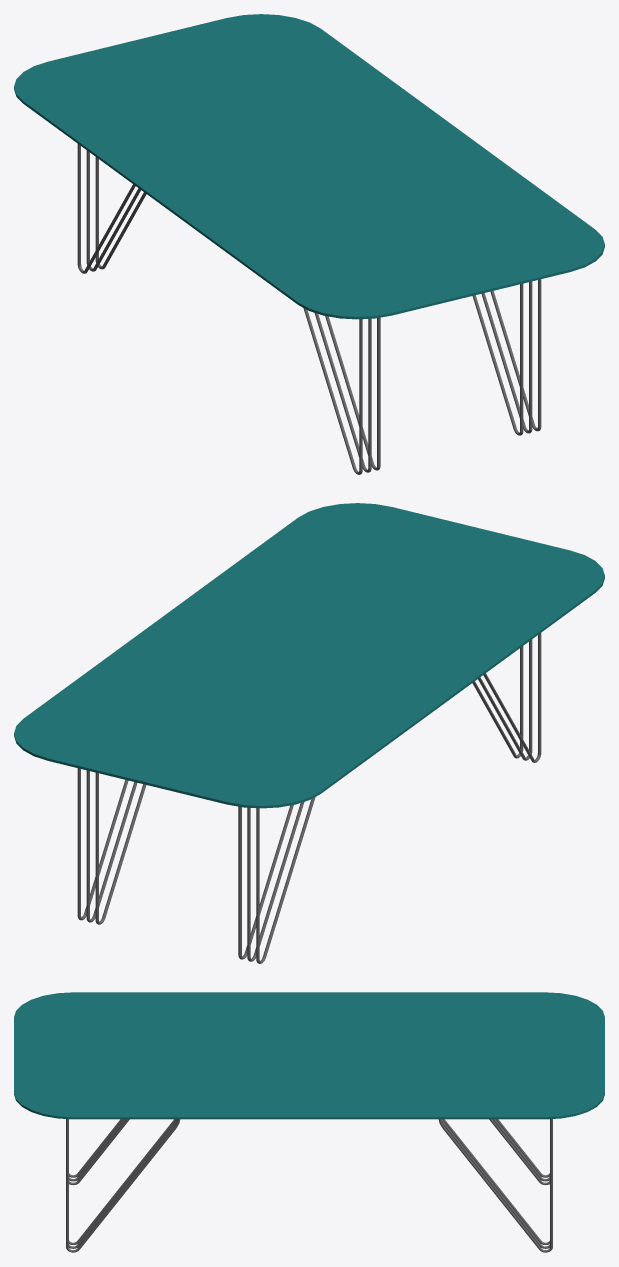
File: tavolo.fbx
3 views of the same model, one above another, from view 1: azimuth 30°, elevation 25°; view 2: azimuth 150°, elevation 25°; view 3: azimuth 270°, elevation 25° (orthographic). The views are drawn at different scales.
Visible parts, largest first — view 1: tavolo, Body42, Body43, Body50, Body44, Body49, Body48, Body45, Body46, Body47; view 2: tavolo, Body45, Body46, Body53, Body47, Body52, Body51, Body42, Body43, Body44; view 3: tavolo, Body51, Body48, Body52, Body49, Body53, Body50.
Part boxes in pixels (x1=…): tavolo: x1=14, y1=14, x2=604, y2=319; Body42: x1=303, y1=308, x2=362, y2=474; Body43: x1=314, y1=313, x2=371, y2=472; Body50: x1=472, y1=283, x2=523, y2=435; Body44: x1=325, y1=316, x2=380, y2=470; Body49: x1=481, y1=281, x2=532, y2=433; Body48: x1=490, y1=279, x2=541, y2=431; Body45: x1=77, y1=144, x2=135, y2=273; Body46: x1=86, y1=150, x2=140, y2=271; Body47: x1=95, y1=157, x2=146, y2=269; tavolo: x1=14, y1=503, x2=604, y2=808; Body45: x1=256, y1=797, x2=315, y2=963; Body46: x1=247, y1=802, x2=304, y2=961; Body53: x1=95, y1=772, x2=146, y2=924; Body47: x1=238, y1=805, x2=293, y2=959; Body52: x1=86, y1=770, x2=137, y2=922; Body51: x1=77, y1=768, x2=128, y2=920; Body42: x1=483, y1=633, x2=541, y2=762; Body43: x1=478, y1=639, x2=532, y2=760; Body44: x1=472, y1=646, x2=523, y2=758; tavolo: x1=14, y1=992, x2=604, y2=1119; Body51: x1=438, y1=1119, x2=552, y2=1252; Body48: x1=66, y1=1119, x2=180, y2=1252; Body52: x1=441, y1=1119, x2=549, y2=1248; Body49: x1=69, y1=1119, x2=177, y2=1248; Body53: x1=443, y1=1119, x2=549, y2=1244; Body50: x1=69, y1=1119, x2=175, y2=1244.
Size of the model in its own units: 100 by 200 by 59.81.
